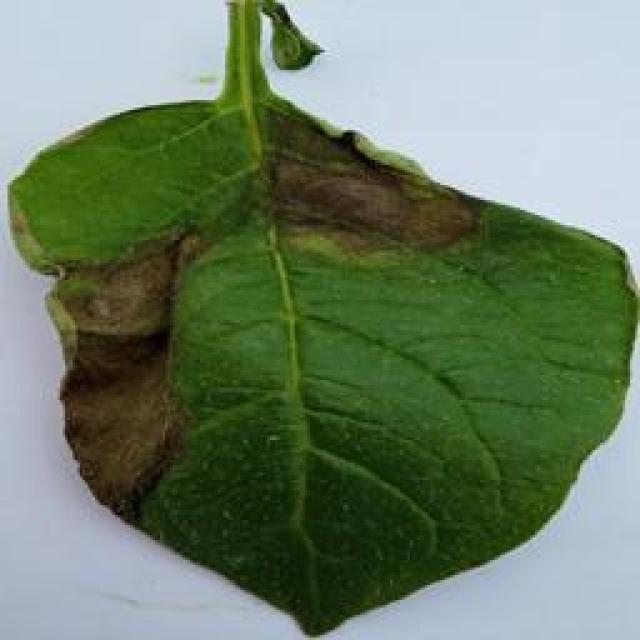Potato_Late_Blight: (12, 10, 626, 636)
